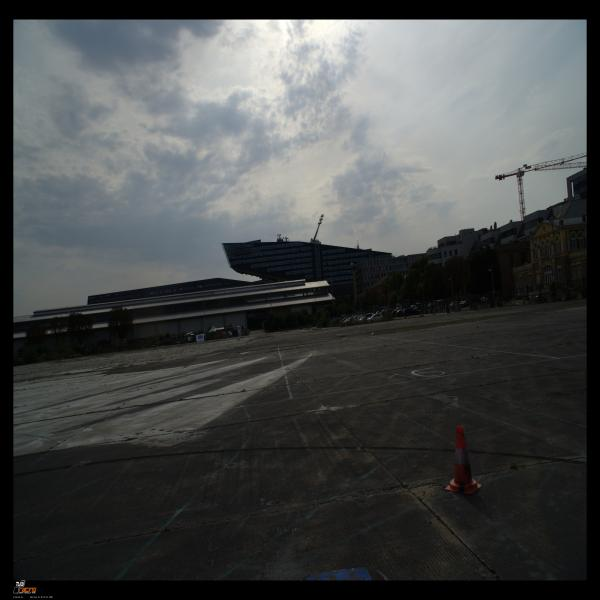orange_cone: (444, 426, 482, 494)
